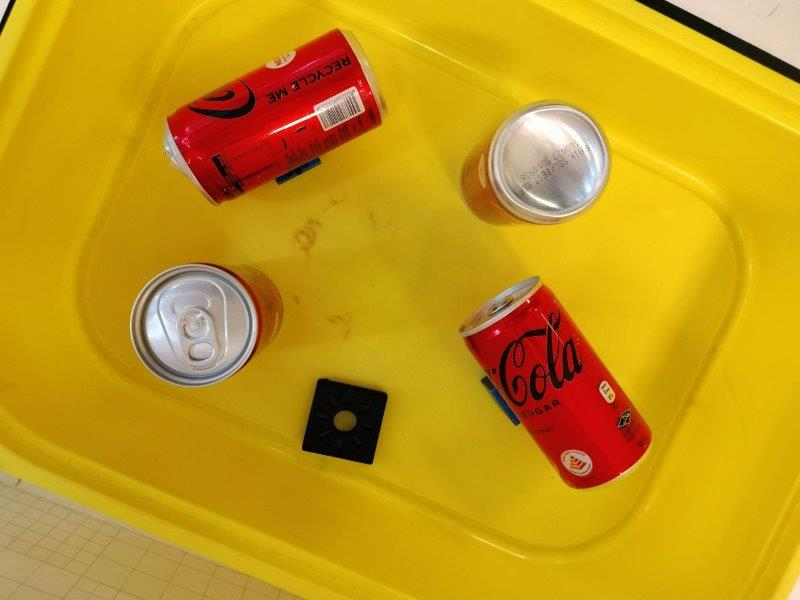Coke: (460, 275, 655, 491), (161, 30, 387, 207), (460, 103, 612, 228), (129, 262, 283, 385)
